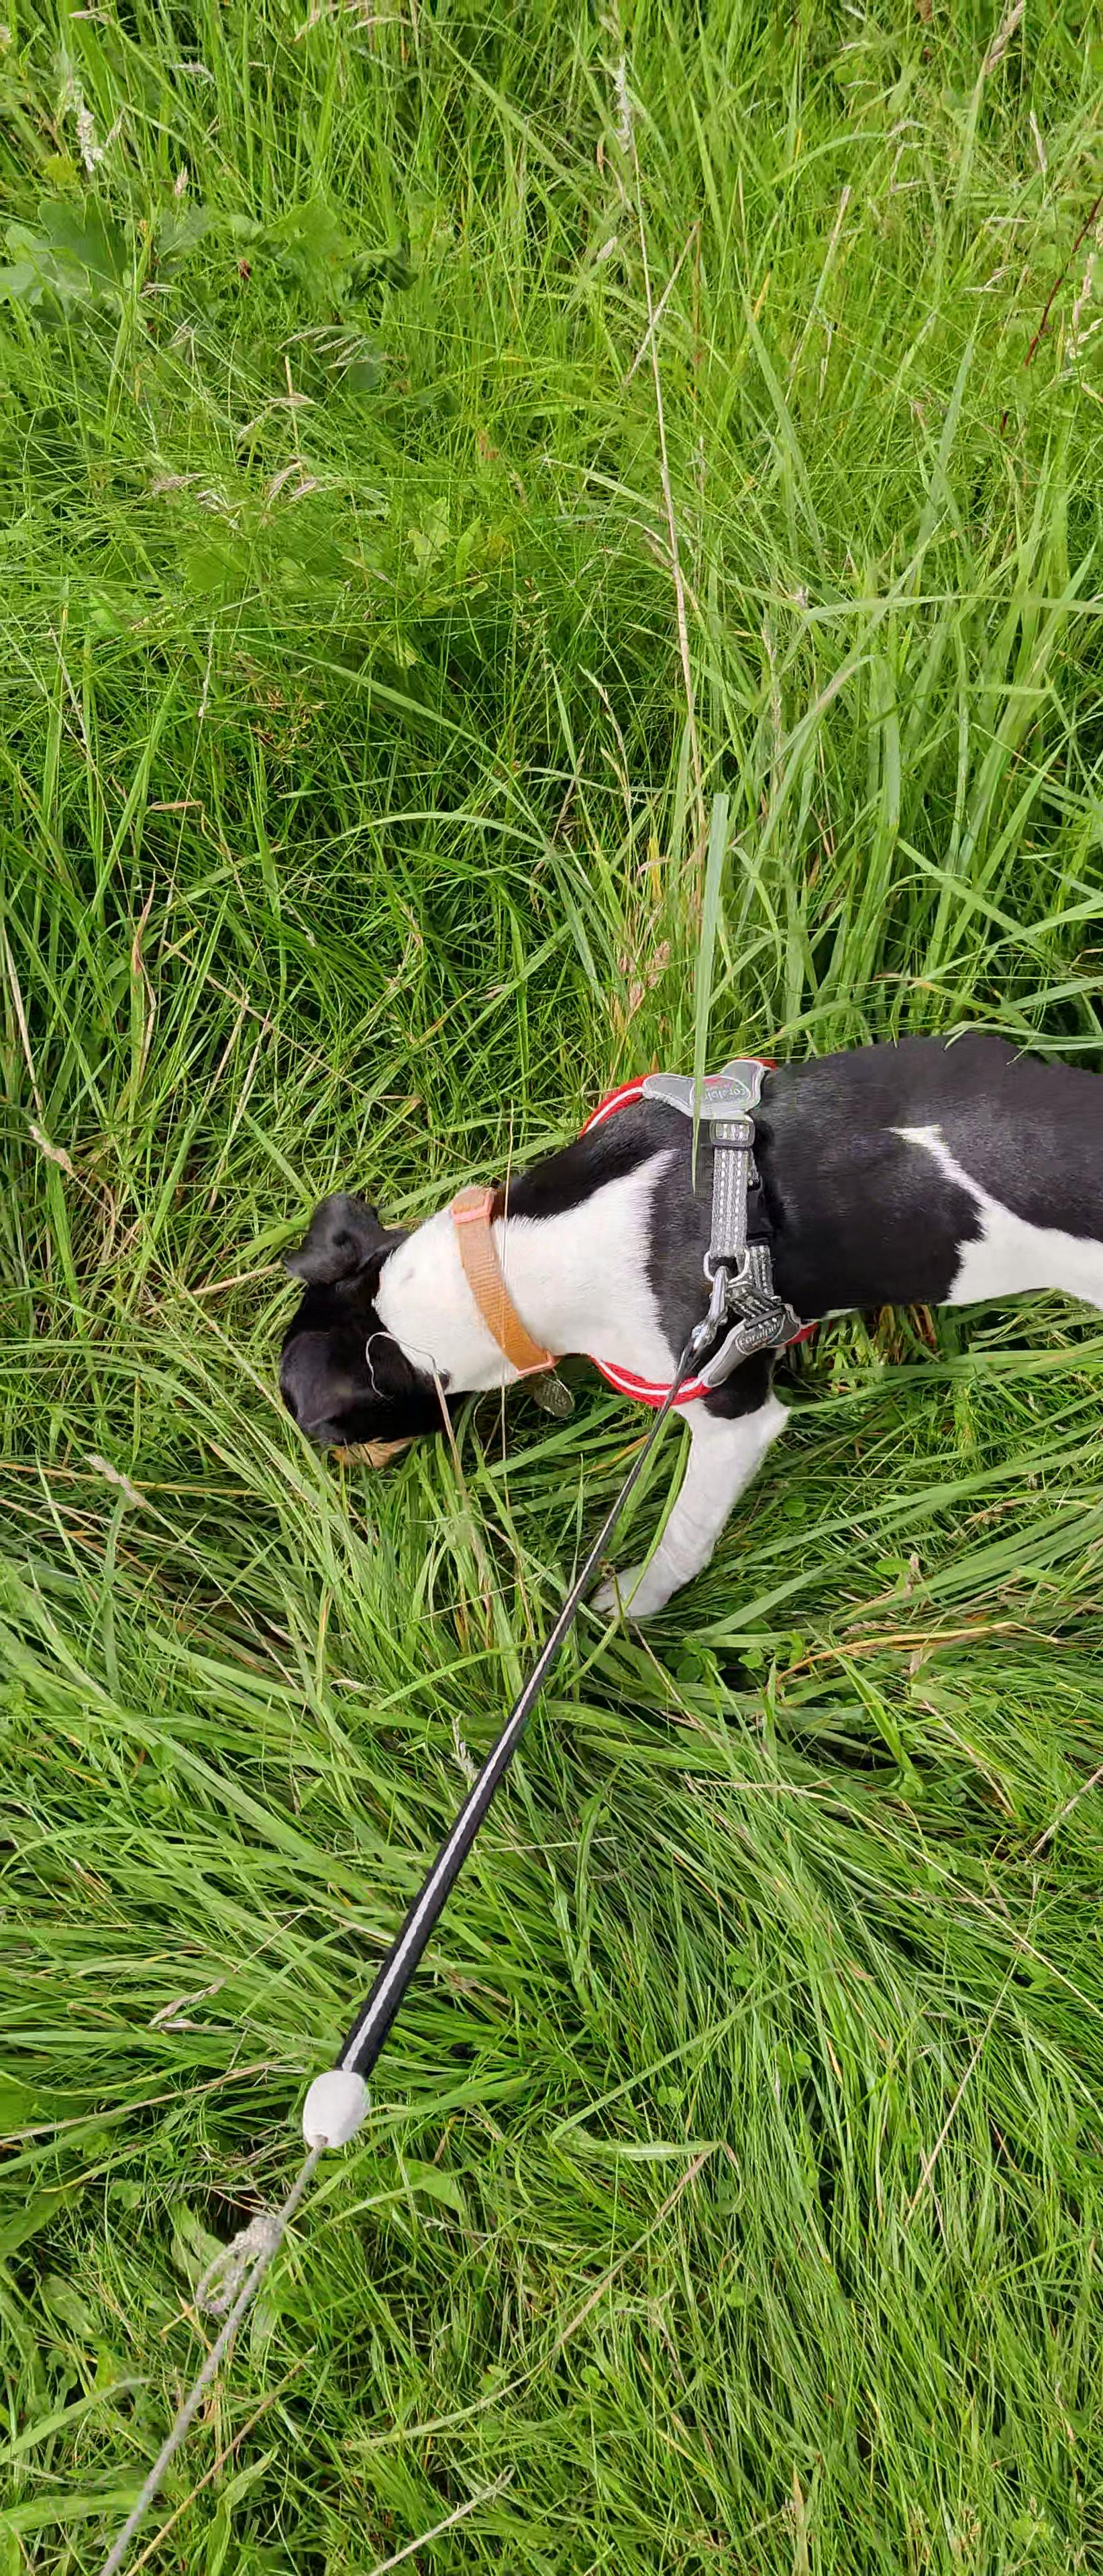Dog: (224, 1009, 1103, 1633)
